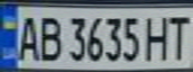3: (63, 12, 87, 62), (103, 14, 124, 63)
5: (121, 12, 145, 62)
6: (84, 14, 106, 63)
A: (12, 11, 42, 62)
B: (36, 11, 63, 62)
H: (142, 11, 175, 62)
T: (163, 12, 193, 61)
